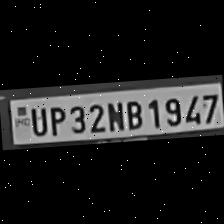1: (144, 96, 162, 128)
2: (85, 100, 106, 134)
3: (65, 102, 86, 134)
4: (180, 92, 202, 125)
7: (199, 90, 219, 124)
9: (160, 94, 182, 126)
B: (122, 96, 144, 130)
N: (102, 98, 124, 132)
P: (46, 103, 66, 135)
U: (26, 105, 46, 136)
